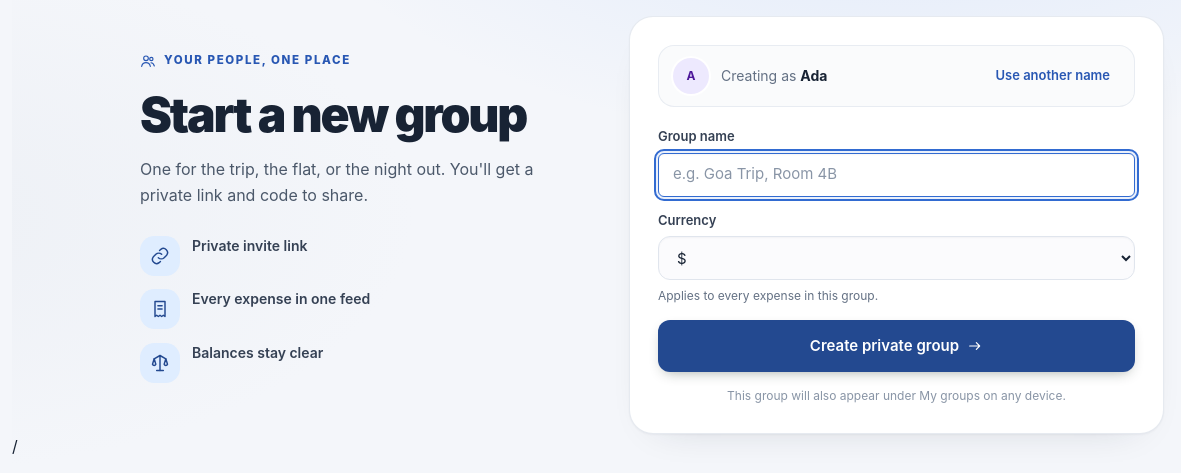
Test case: CreateGroup › creates the group and navigates to it
This screenshot has width=1181, height=473.
expect the text "Ada" is shown: met, box [800,67,827,84]
In the field labelled "Group name": coordinates (896, 174) [658,152,1135,196], type "Goa Trip"
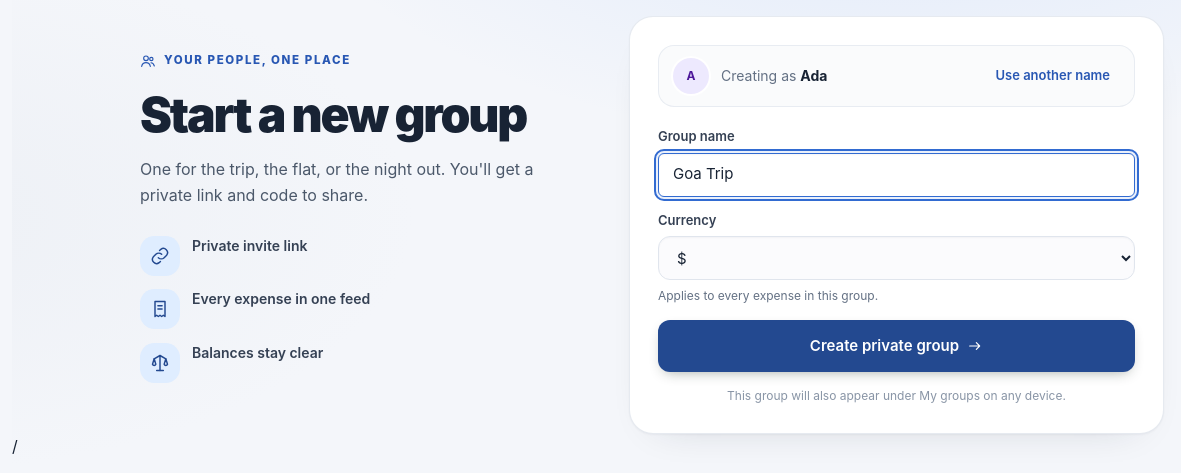
Click the button "Create private group": coordinates (896, 346) [658,320,1135,372]
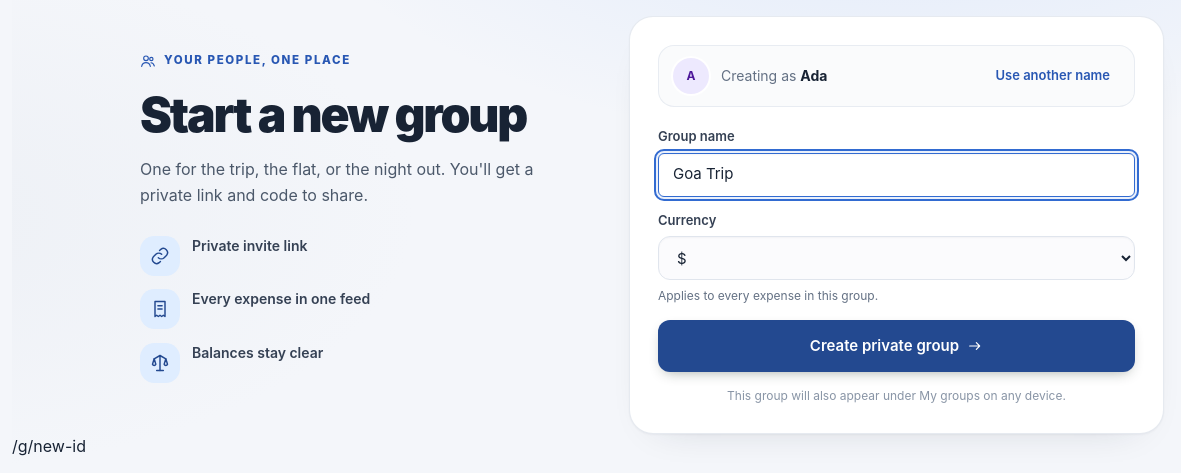
expect the text with test id "path" reads "/g/new-id": met, box [12,436,86,456]
